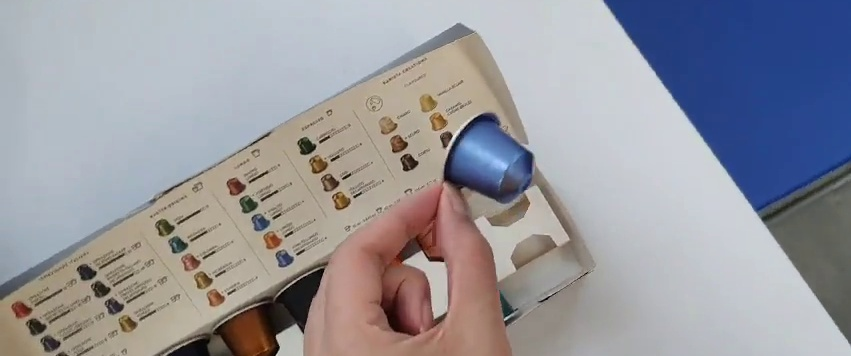capsule_7: (440, 107, 537, 204)
